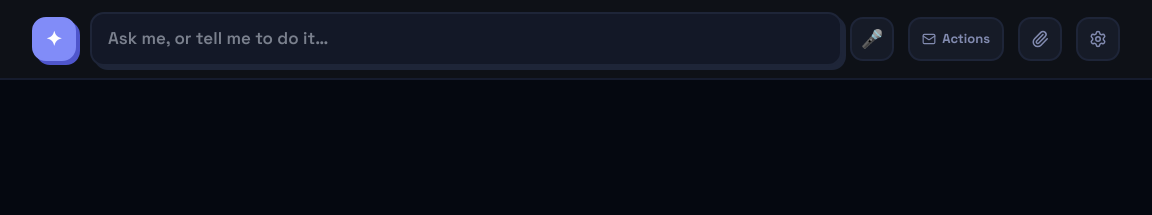
Test: CopilotBar — escalate to cloud agent (unified bar) › Clear hides the on-screen thread (view-only declutter)
The width and height of the screenshot is (1152, 215).
Click the field named "Ask the copilot".
click(466, 39)  # box [90,12,842,66]
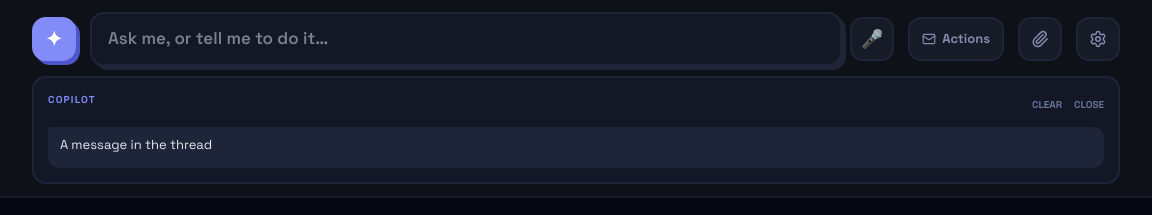
Check: the text "A message in the thread" is shown, box [60,136,212,152]
Click the button "Clear".
click(1047, 104)  # box [1032,96,1062,112]
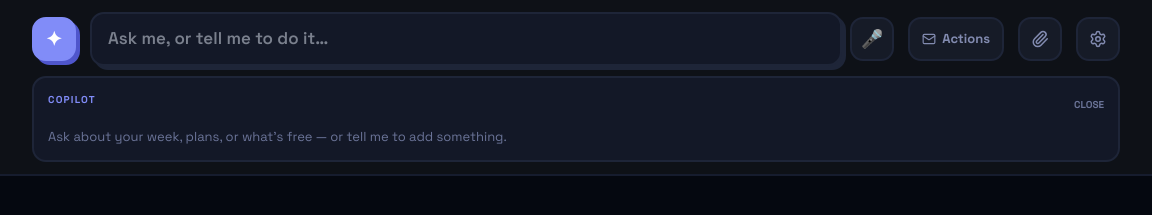
Check: the text "A message in the thread" is gone
